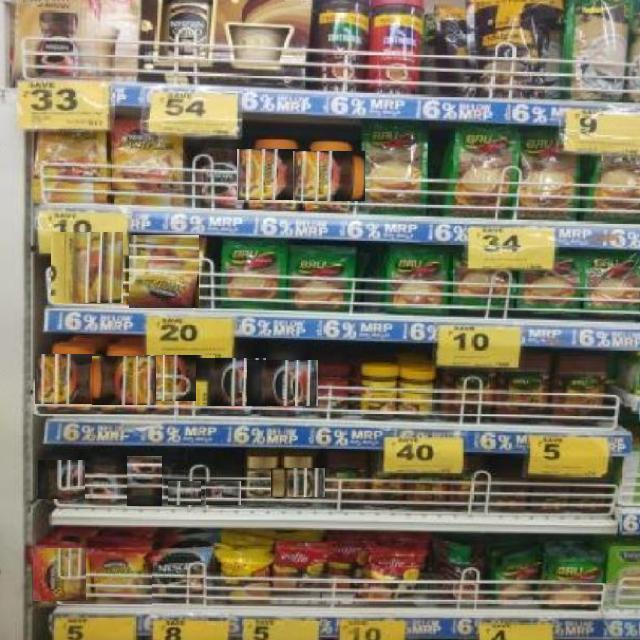Coffee: (35, 114, 109, 203), (113, 120, 186, 205), (129, 234, 199, 308), (52, 232, 123, 303), (236, 149, 311, 200), (195, 135, 244, 210), (293, 152, 365, 201), (34, 354, 102, 404), (197, 358, 266, 406), (142, 356, 215, 401), (248, 360, 318, 406), (92, 356, 156, 405), (152, 548, 206, 606), (34, 547, 86, 601), (93, 548, 144, 599), (38, 459, 88, 499), (127, 455, 162, 506), (85, 454, 119, 504), (271, 467, 325, 497), (246, 455, 276, 506), (206, 481, 241, 505), (167, 481, 201, 505)
